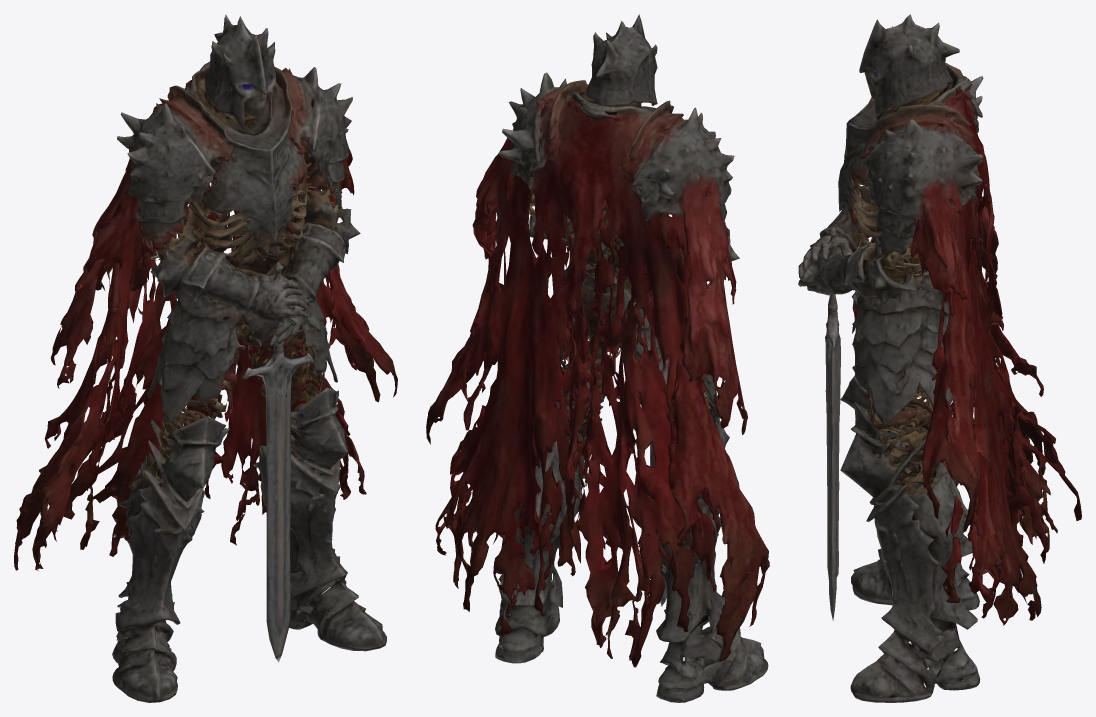
The model's file is доспехи.glb.
3 renders of one model, left to right at view 1: azimuth 30°, elevation 25°; view 2: azimuth 150°, elevation 25°; view 3: azimuth 270°, elevation 25°, orthographic.
Parts seen in each view (by area): view 1: geometry_0; view 2: geometry_0; view 3: geometry_0.
Part boxes in pixels (<box>): geometry_0: <box>14,14,397,702</box>; geometry_0: <box>426,14,769,702</box>; geometry_0: <box>798,14,1081,702</box>.
Bounding box in the file's own units: 0.5658 × 1 × 0.4092.
1 material, 1 textured.
